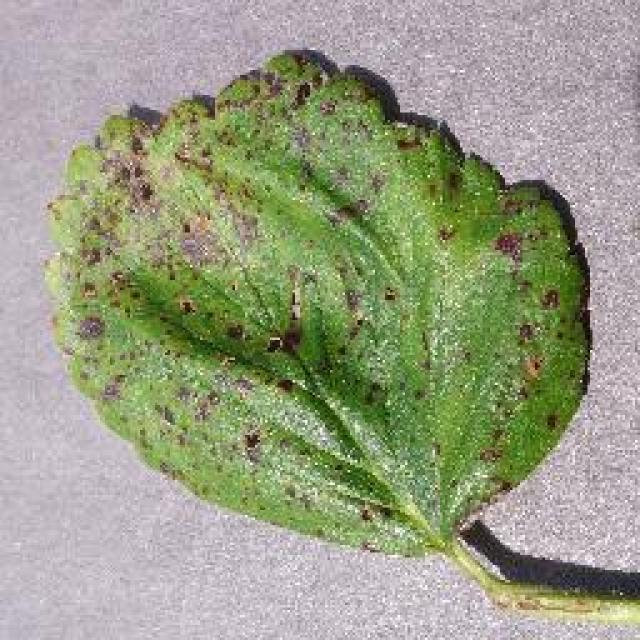Strawberry leaf scorch: (41, 90, 576, 435)
